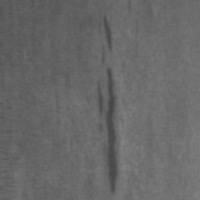inclusion: (93, 63, 123, 196), (96, 13, 118, 63)
